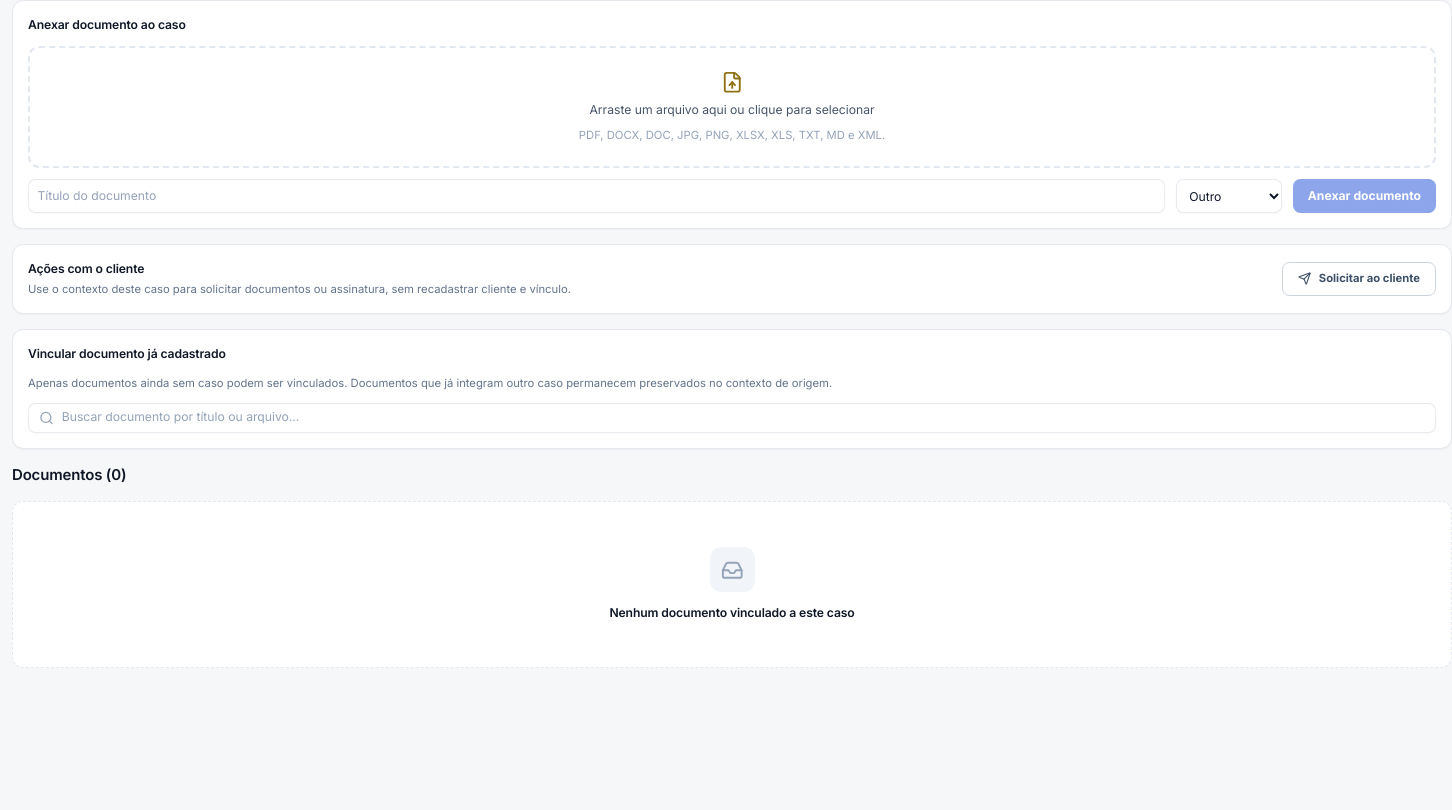
TabDocumentos — vínculo canônico › limpa candidatos do contexto anterior assim que o caso muda
The width and height of the screenshot is (1452, 810).
Type "documento" into the field with placeholder "Buscar documento por título ou arquivo…" at (732, 418), box [28, 403, 1436, 433]
Wait 450 ms
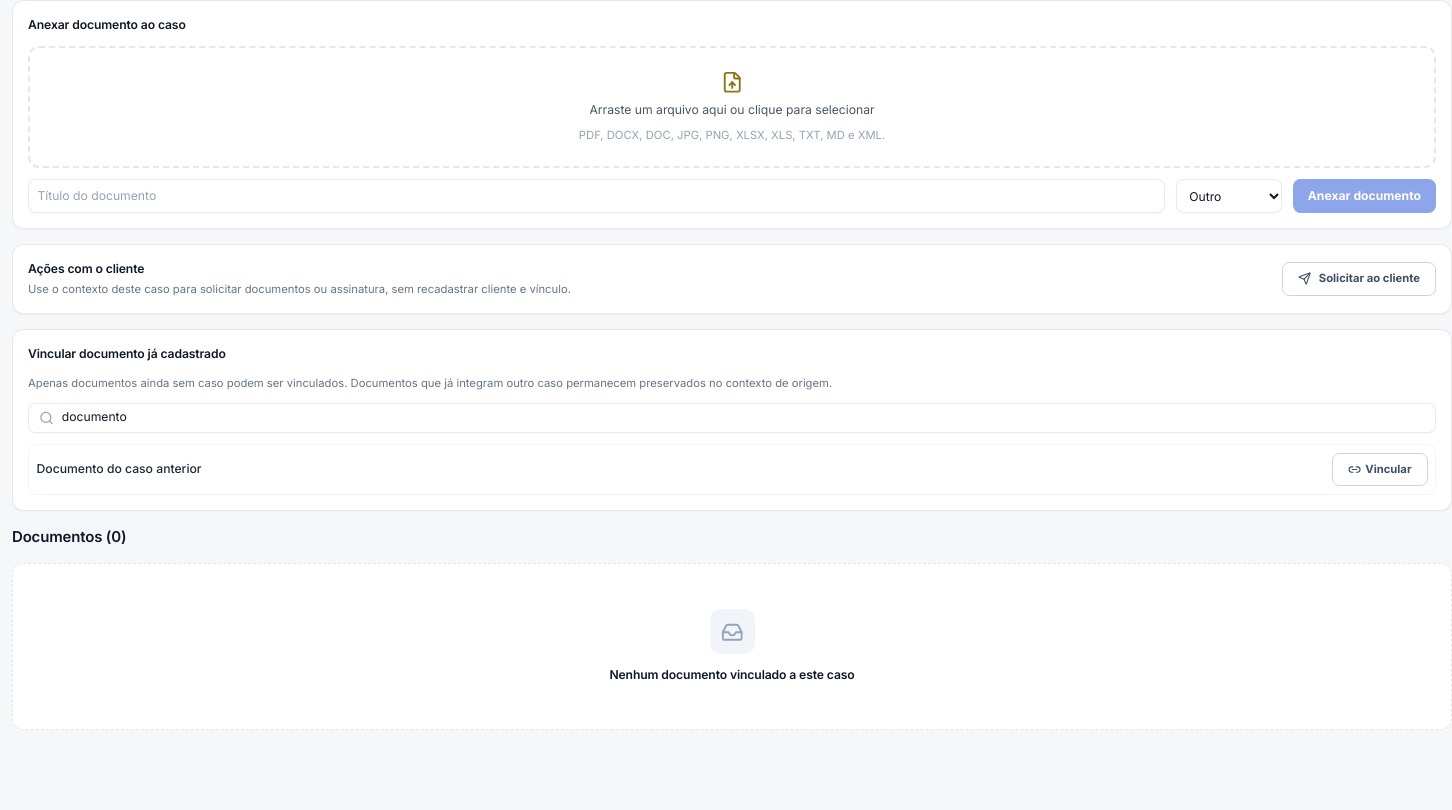
Expected: the text "Documento do caso anterior" is shown, [36, 460, 202, 479]
